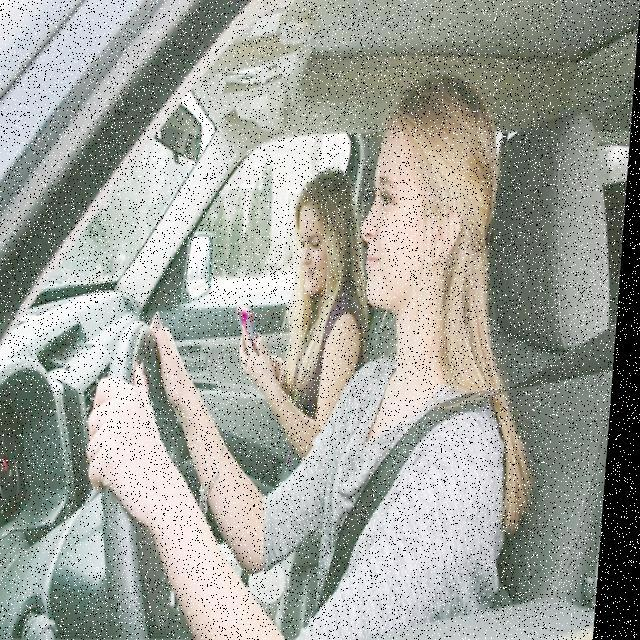seatbelt: (296, 340, 600, 632)
